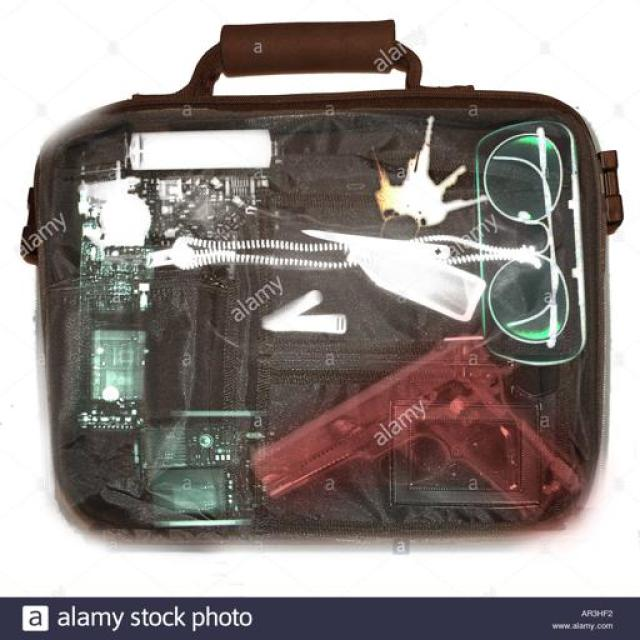pistol: (256, 333, 585, 524)
